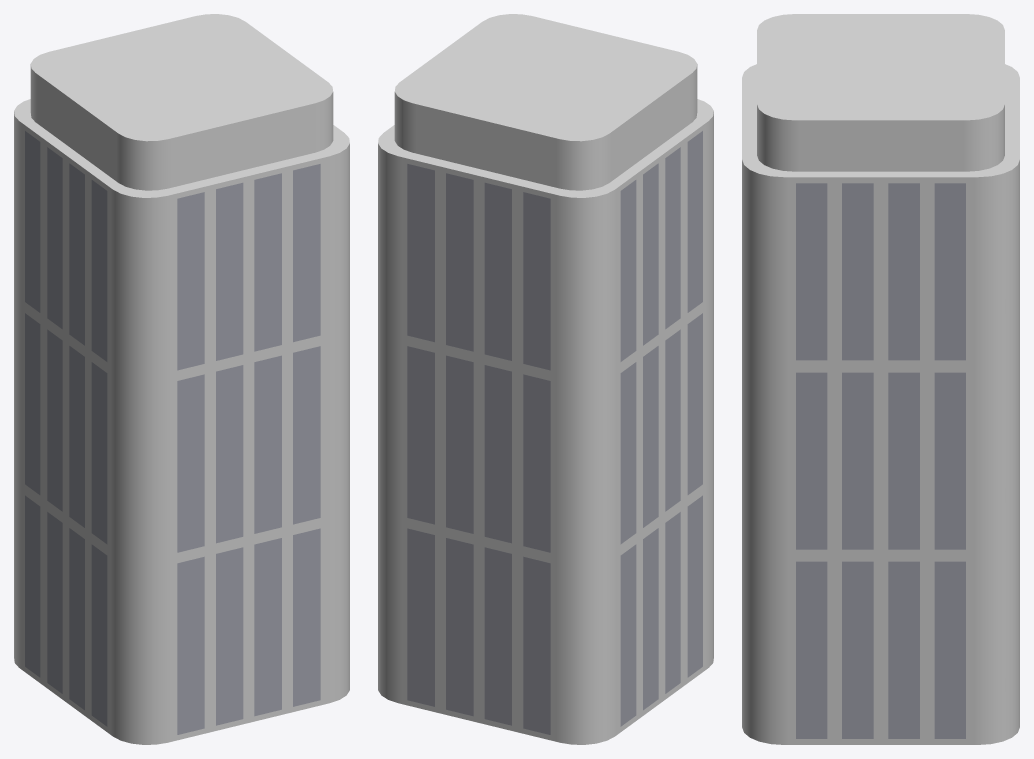
File: Building C.fbx
3 renders of one model, left to right at view 1: azimuth 30°, elevation 25°; view 2: azimuth 150°, elevation 25°; view 3: azimuth 270°, elevation 25°, orthographic. The views are drawn at different scales.
Parts seen in each view (by area): view 1: Background Building Part C, Background Building Cap C; view 2: Background Building Part C, Background Building Cap C; view 3: Background Building Part C, Background Building Cap C.
Part boxes in pixels (bbox=[...]): Background Building Part C: bbox=[14, 112, 349, 744]; Background Building Cap C: bbox=[14, 14, 349, 197]; Background Building Part C: bbox=[378, 112, 713, 744]; Background Building Cap C: bbox=[378, 14, 713, 197]; Background Building Part C: bbox=[742, 160, 1019, 744]; Background Building Cap C: bbox=[742, 14, 1019, 177].
Size of the model in its own units: 7.07 by 17.39 by 7.07.
